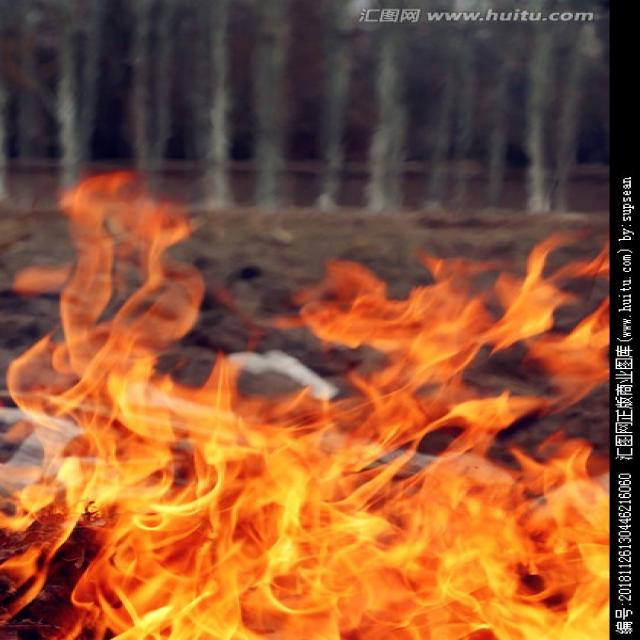fire: (6, 167, 607, 640)
